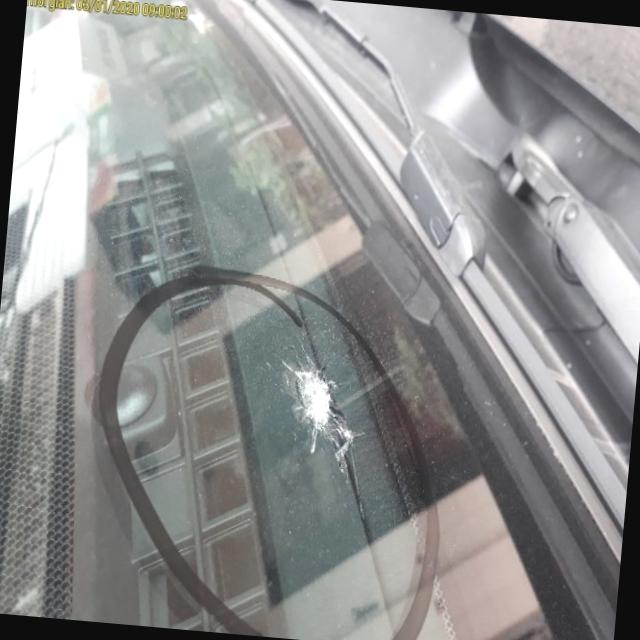Fissure: (258, 332, 373, 465)
